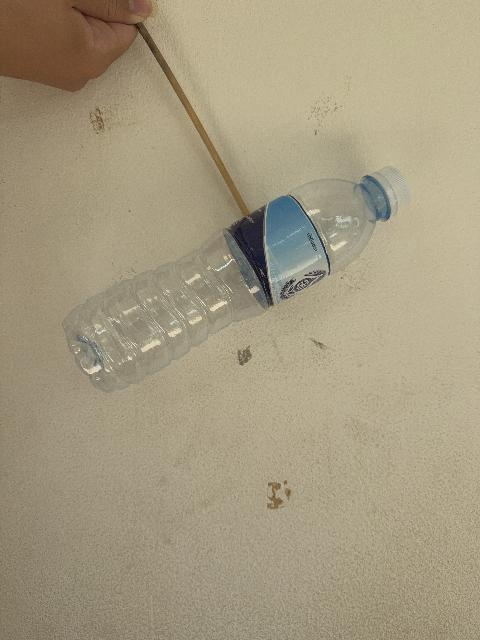bottle: (64, 167, 410, 391)
